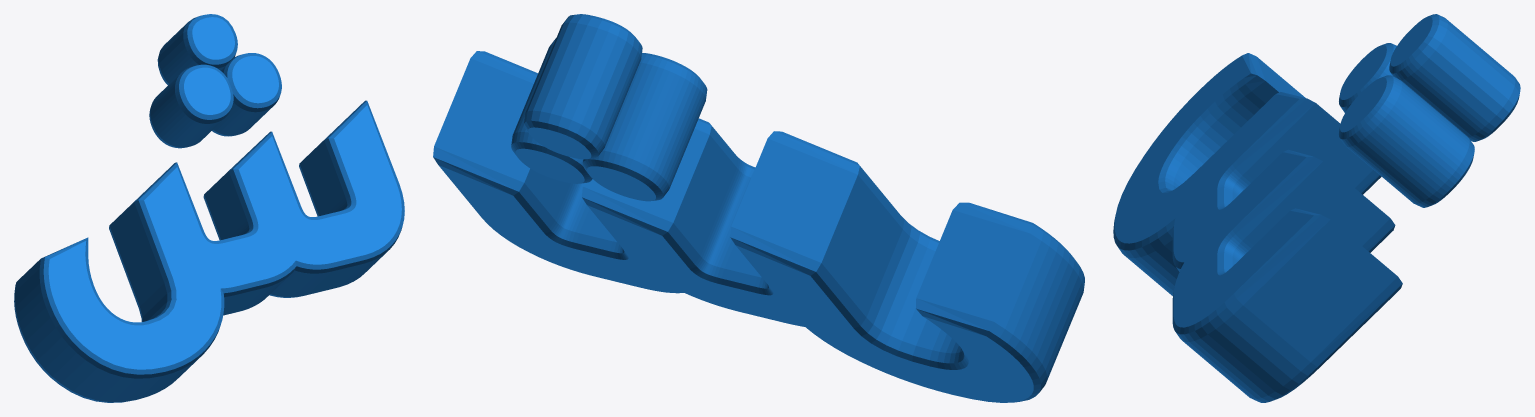
3 renders of one model, left to right at view 1: azimuth 30°, elevation 25°; view 2: azimuth 150°, elevation 25°; view 3: azimuth 270°, elevation 25°, orthographic. The views are drawn at different scales.
Parts seen in each view (by area): view 1: letter; view 2: letter; view 3: letter.
Boxes of the visible parts, x1,y1,x2,y2 form: letter: (14, 14, 404, 402); letter: (433, 14, 1084, 402); letter: (1113, 14, 1520, 402).
Size of the model in its own units: 1.75 by 1.29 by 1.24.
